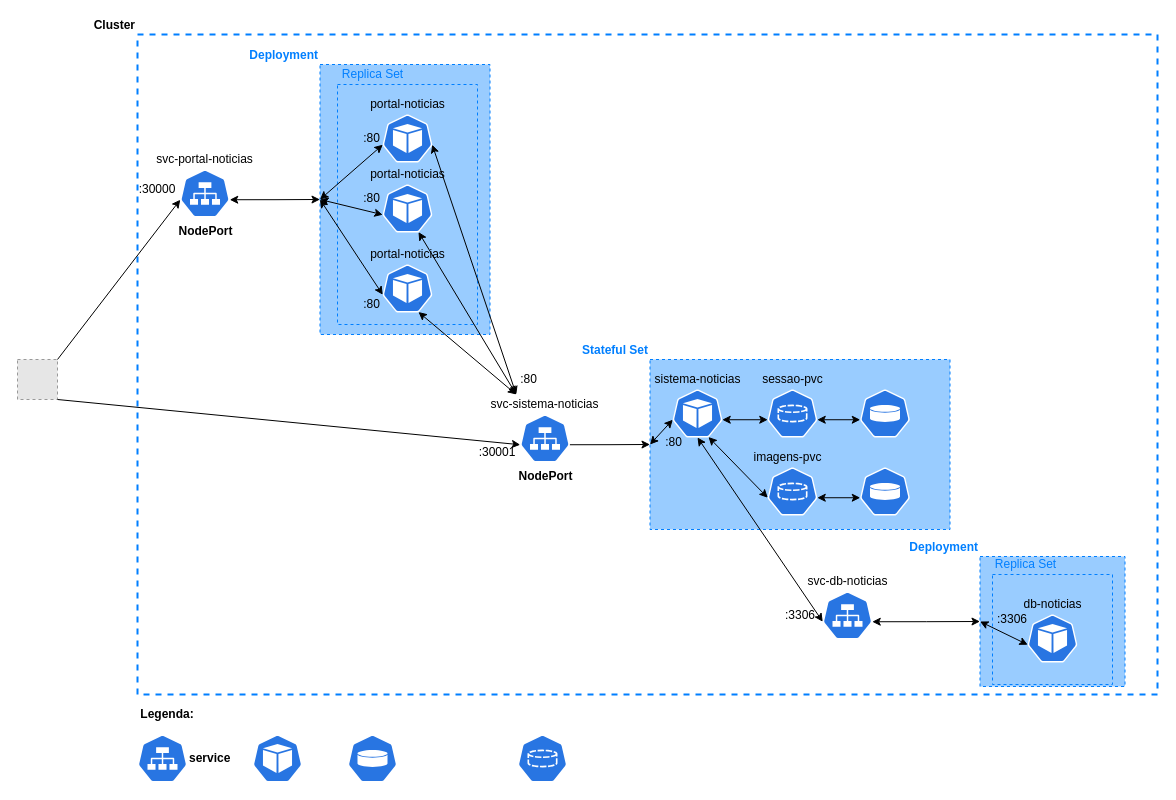
This 1176x800 diagram has some shape labels left out. Grey dashed boxes stand in for pictures. The shapes that lost their labels are listed below. From the top down, each one's centre as x and y in pixels, then its label:
At point (847, 615): "ClusterIP".
At point (277, 758): "pod".
At point (372, 758): "persistent volume".
At point (542, 758): "persistent volume claim".
